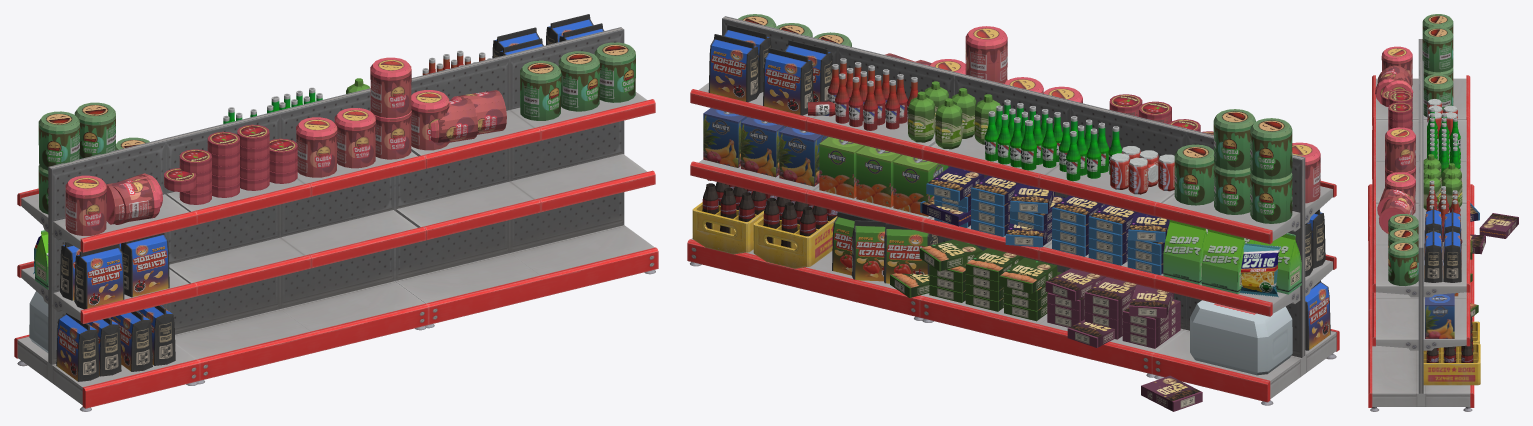
The model's file is Market_05.obj.
3 views of the same model, side by side, from view 1: azimuth 30°, elevation 25°; view 2: azimuth 150°, elevation 25°; view 3: azimuth 270°, elevation 25° (orthographic). The views are drawn at different scales.
Size of the model in its own units: 5.01 by 2.13 by 1.52.
Materials: 175 (175 with a texture image).
